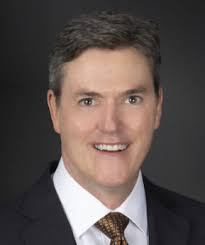No-Glasses: (62, 83, 153, 120)
